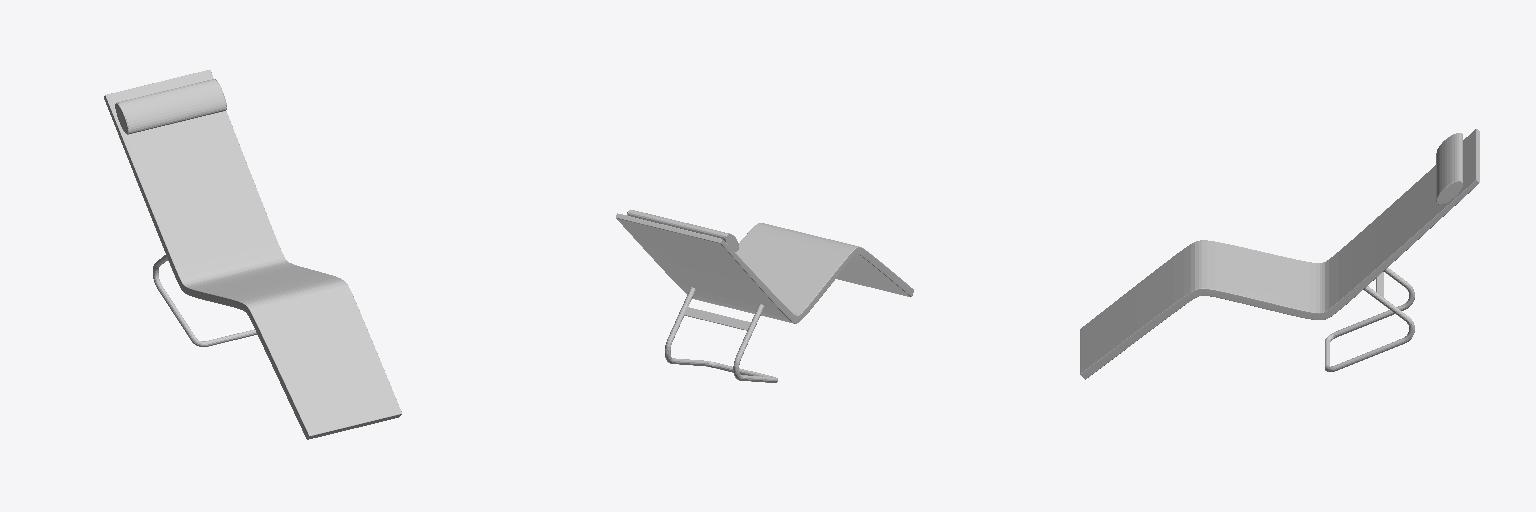
The model's file is armchair 010.obj.
3 renders of one model, left to right at view 1: azimuth 30°, elevation 25°; view 2: azimuth 150°, elevation 25°; view 3: azimuth 270°, elevation 25°, orthographic.
Parts seen in each view (by area): view 1: obj_04, obj_01, obj_02; view 2: obj_04, obj_02, obj_01, obj_03; view 3: obj_04, obj_02, obj_01.
Boxes of the visible parts, <box> form: obj_04: <box>104,70,401,439</box>; obj_01: <box>115,79,226,134</box>; obj_02: <box>153,255,256,346</box>; obj_04: <box>616,213,913,323</box>; obj_02: <box>665,287,777,382</box>; obj_01: <box>627,210,738,251</box>; obj_03: <box>684,307,750,330</box>; obj_04: <box>1080,129,1479,379</box>; obj_02: <box>1325,268,1414,371</box>; obj_01: <box>1436,133,1462,204</box>.
Size of the model in its own units: 17.99 by 33.2 by 59.1.